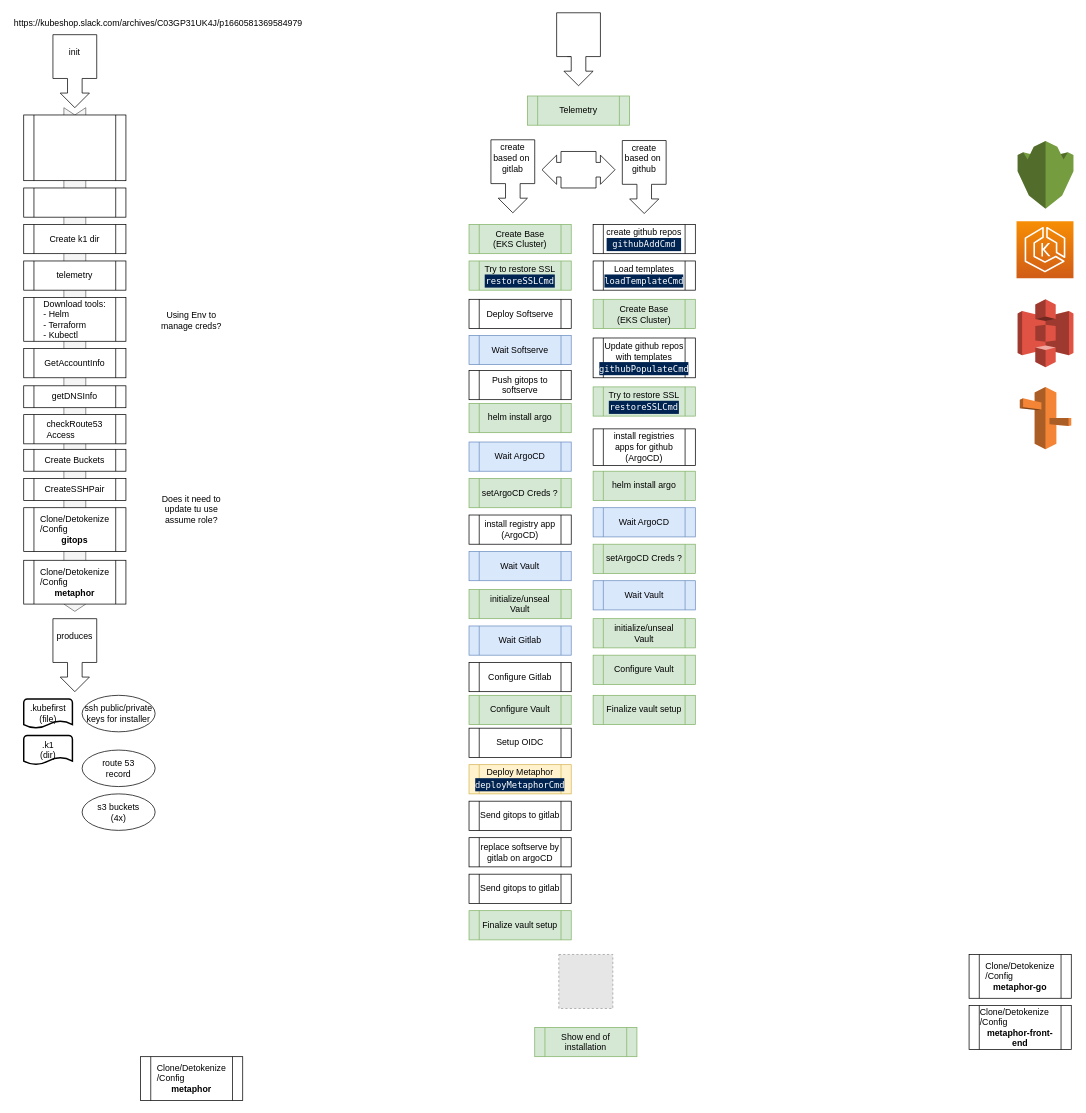
Some shapes in this 1086 by 1113 pixel diagram are drawn without their labels. Grey dashed boxes stand in for pictures. Here are the shapes that lost their labels. From the top down, the centre of each, then its label:
the point at 578,49: create
the point at 74,147: Proces Flags: - Global - Installer - aws - Github
the point at 578,169: git repo?
the point at 74,202: Assume Role logic
